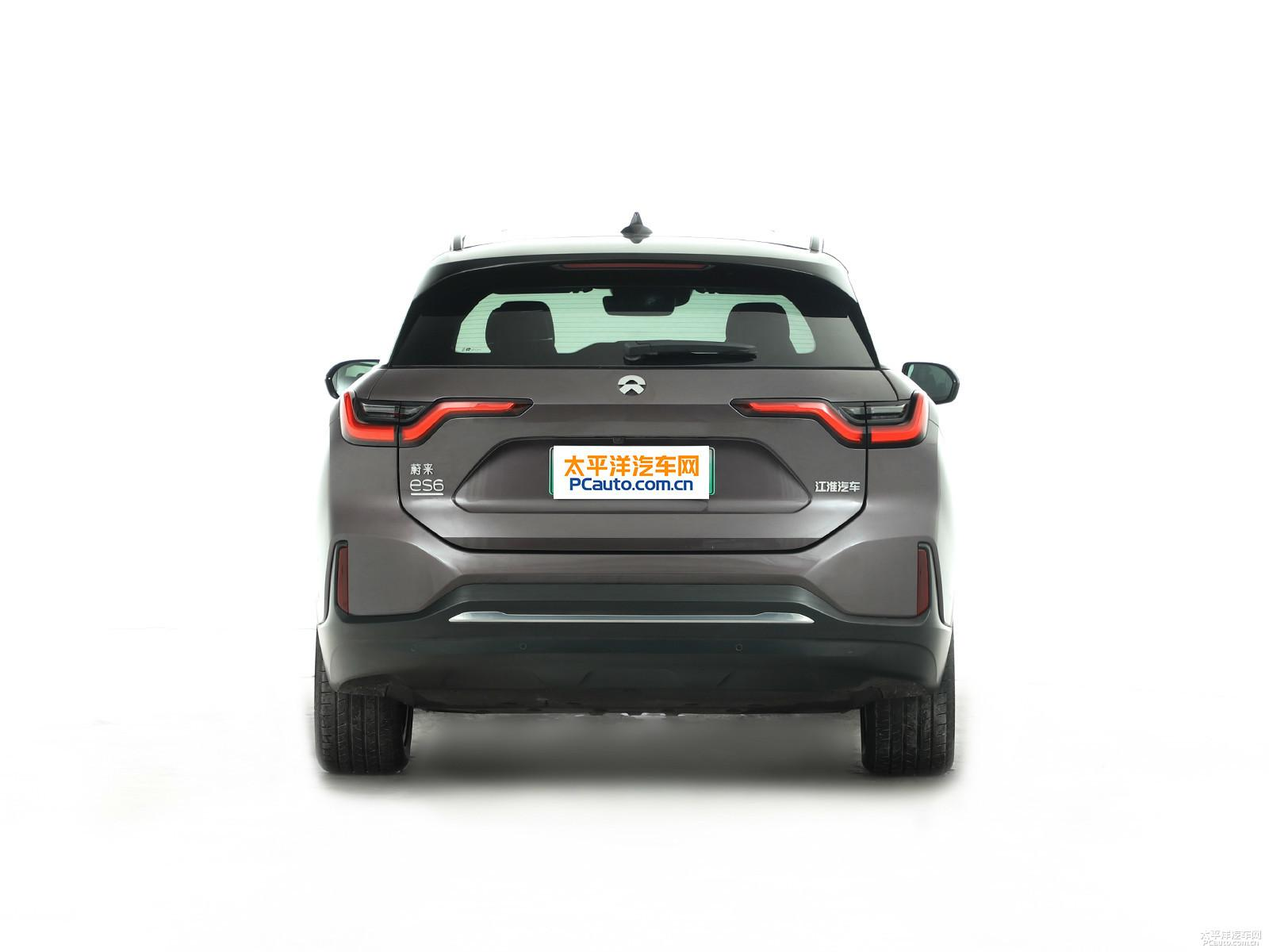NIO: (618, 375, 646, 394)
